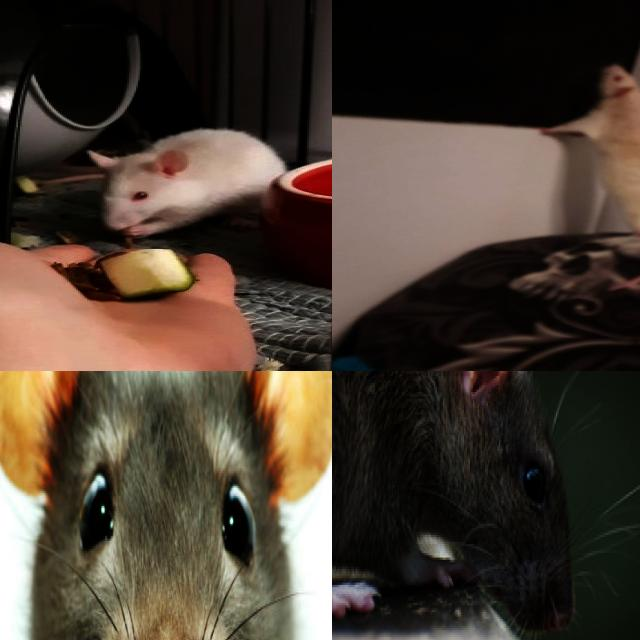rat: (0, 371, 332, 640), (332, 371, 575, 634), (89, 122, 288, 239), (548, 61, 640, 237)
